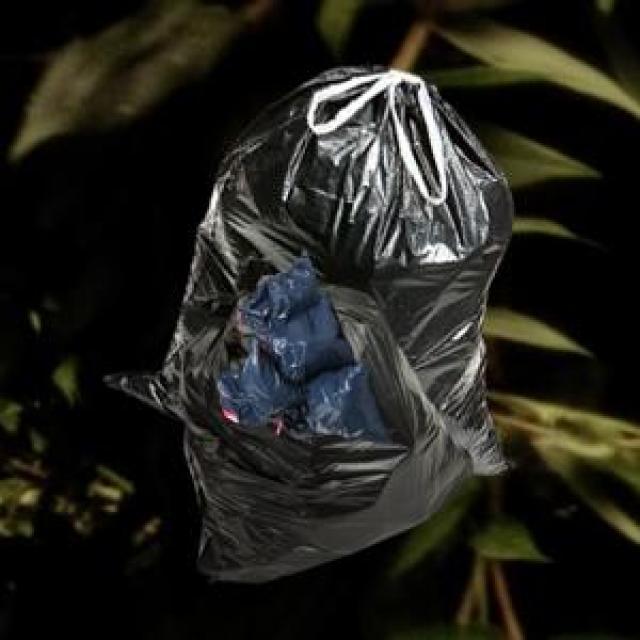waste: (106, 71, 511, 582)
